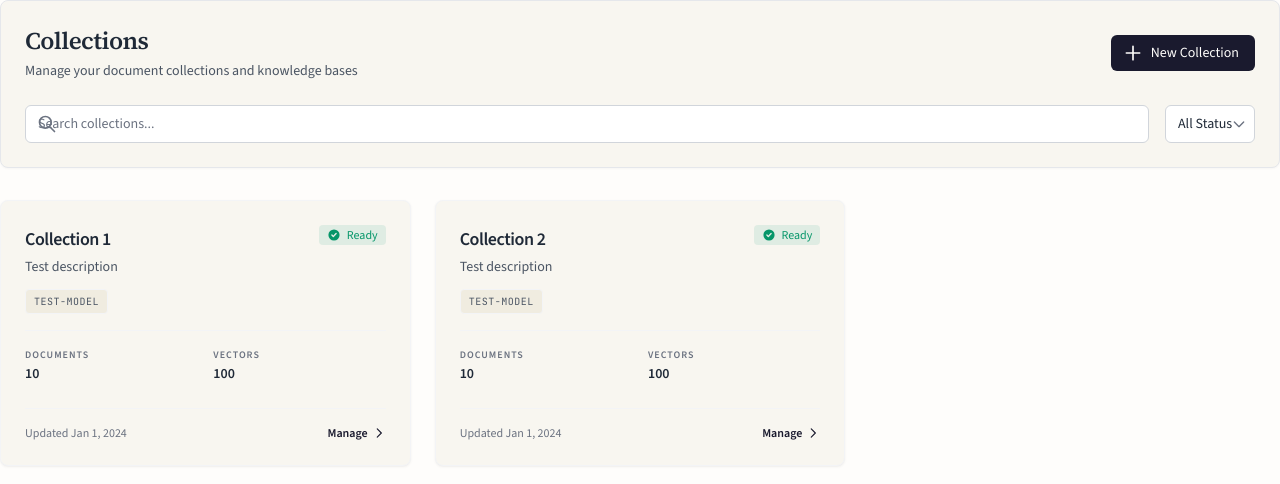
Scenario: CollectionsDashboard › Empty States › should show no results message when search returns no matches
The width and height of the screenshot is (1280, 484).
Step 1. Type "nonexistent" into the field with placeholder "Search collections..." → {"x": 587, "y": 124}, box left=25, top=105, right=1149, bottom=143
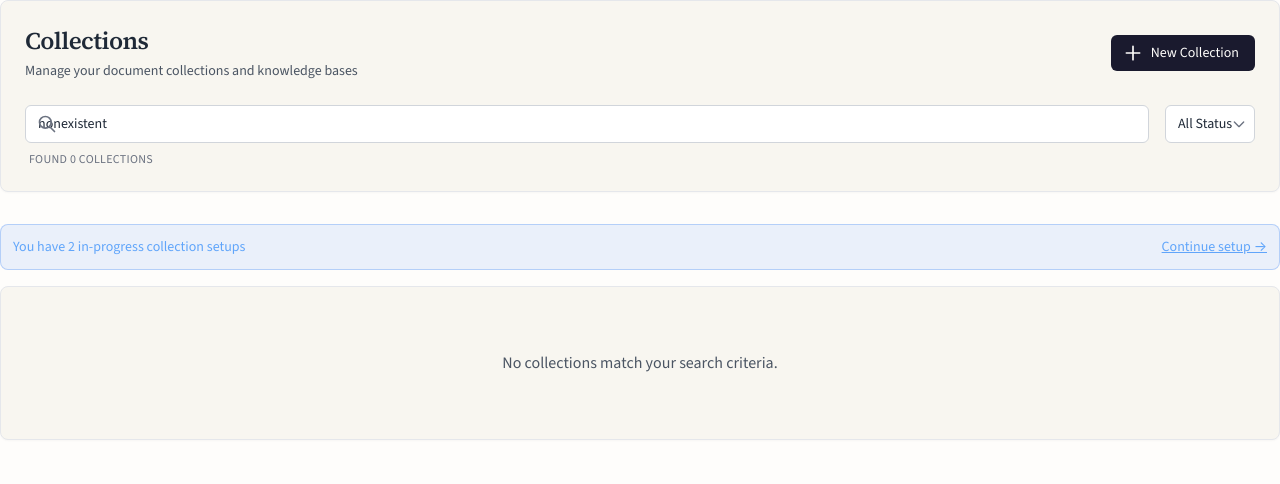
Expected: the text "No collections match your search criteria." is shown, left=502, top=352, right=778, bottom=373
